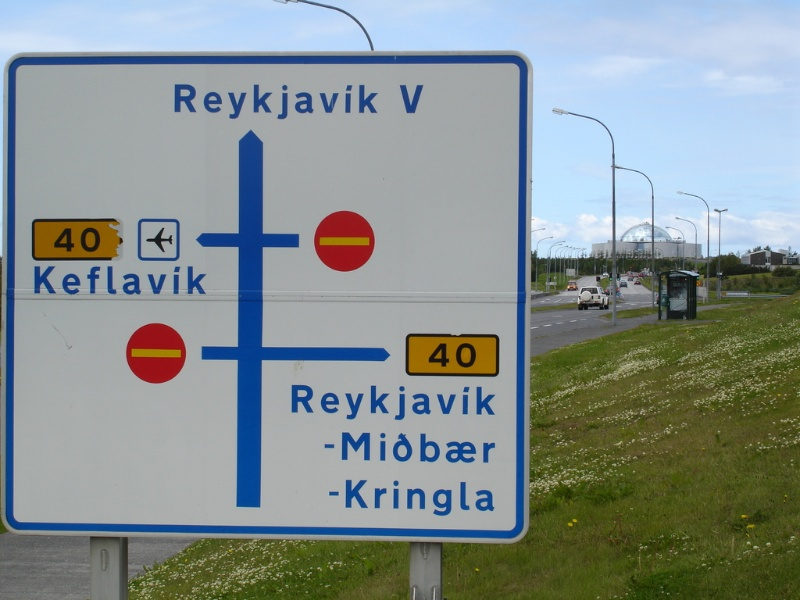no_entry: (312, 206, 378, 275), (126, 323, 186, 384)
